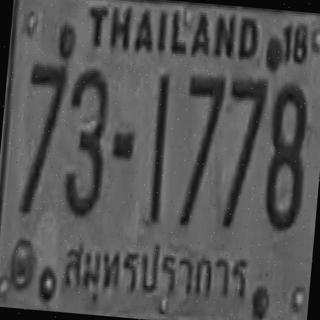N01: (146, 73, 170, 221)
N03: (59, 65, 110, 216)
N07: (176, 73, 225, 227), (18, 61, 67, 214), (219, 76, 267, 229), (221, 75, 267, 200), (22, 61, 68, 170), (180, 72, 225, 182)
N08: (260, 81, 310, 229)
P57: (54, 226, 254, 305)
